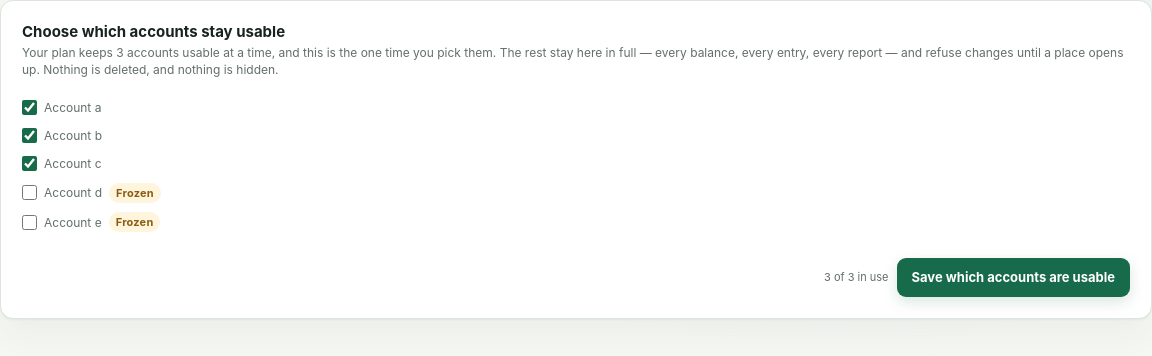
choosing which accounts stay usable › refuses more than the plan keeps, and says why
Click the checkbox labelled "Account d Frozen": (30, 193) [22,185,37,200]
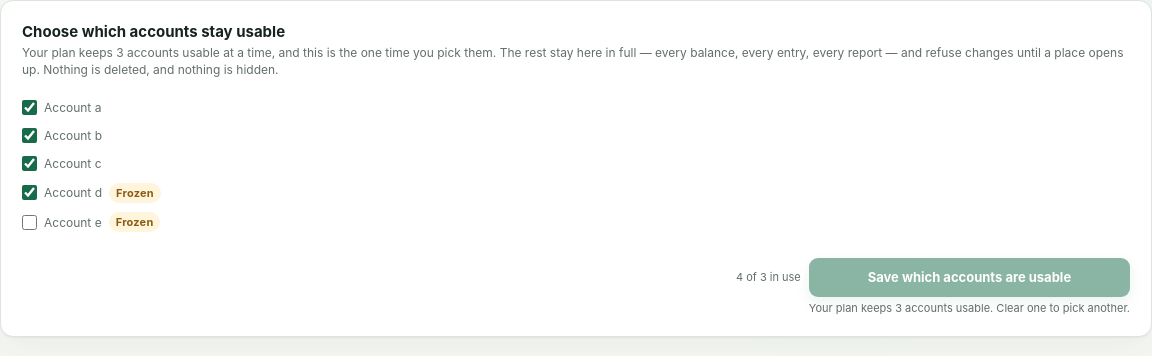
Check: the button "Save which accounts are usable" is disabled, box [809,258,1130,297]
